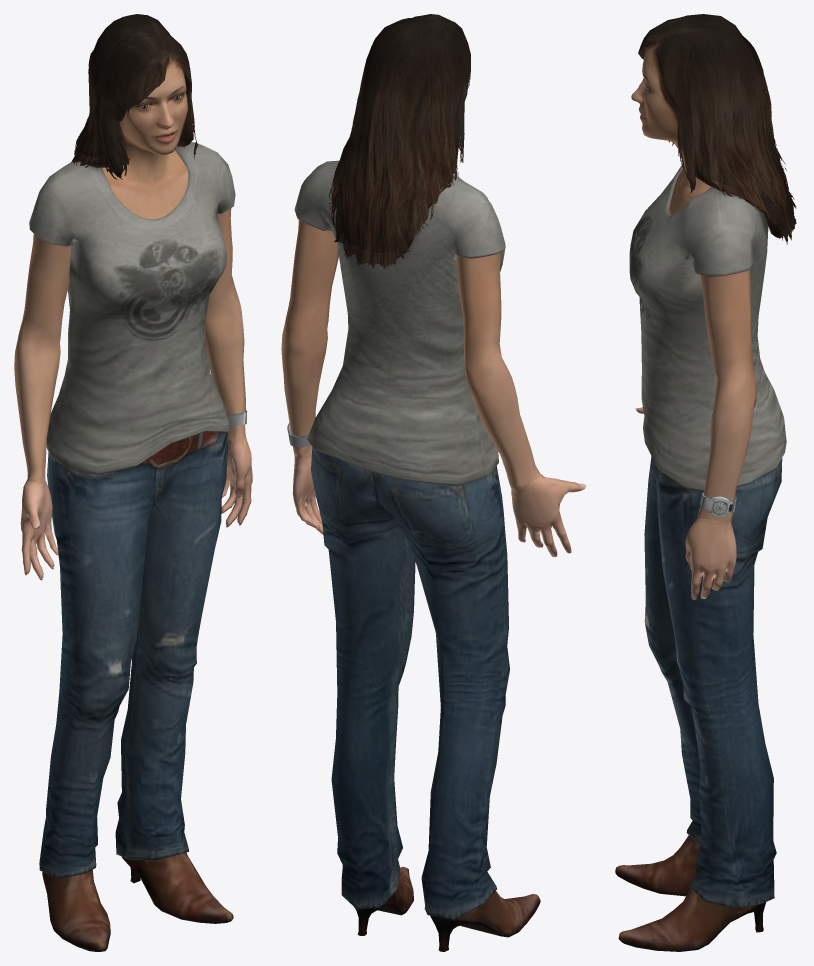
The model's file is new-yorker.glb.
3 views of the same model, side by side, from view 1: azimuth 30°, elevation 25°; view 2: azimuth 150°, elevation 25°; view 3: azimuth 270°, elevation 25° (orthographic).
Parts seen in each view (by area): view 1: Outfit_original-baked, Body-baked, Skin_original-baked, Hair-baked; view 2: Outfit_original-baked, Body-baked, Hair-baked, Skin_original-baked; view 3: Outfit_original-baked, Body-baked, Hair-baked, Skin_original-baked.
Part boxes in pixels (x1,y1,x2,y2): Outfit_original-baked: (14,142,247,951); Body-baked: (74,14,193,219); Skin_original-baked: (20,436,252,580); Hair-baked: (71,22,197,179); Outfit_original-baked: (281,160,540,951); Body-baked: (338,14,470,260); Hair-baked: (328,29,470,268); Skin_original-baked: (292,454,586,557); Outfit_original-baked: (615,164,786,951); Body-baked: (631,14,787,238); Hair-baked: (638,33,796,244); Skin_original-baked: (635,407,736,599).
Size of the model in its own units: 0.5145 by 1.74 by 0.3221.
Materials: 3 (3 with a texture image).
